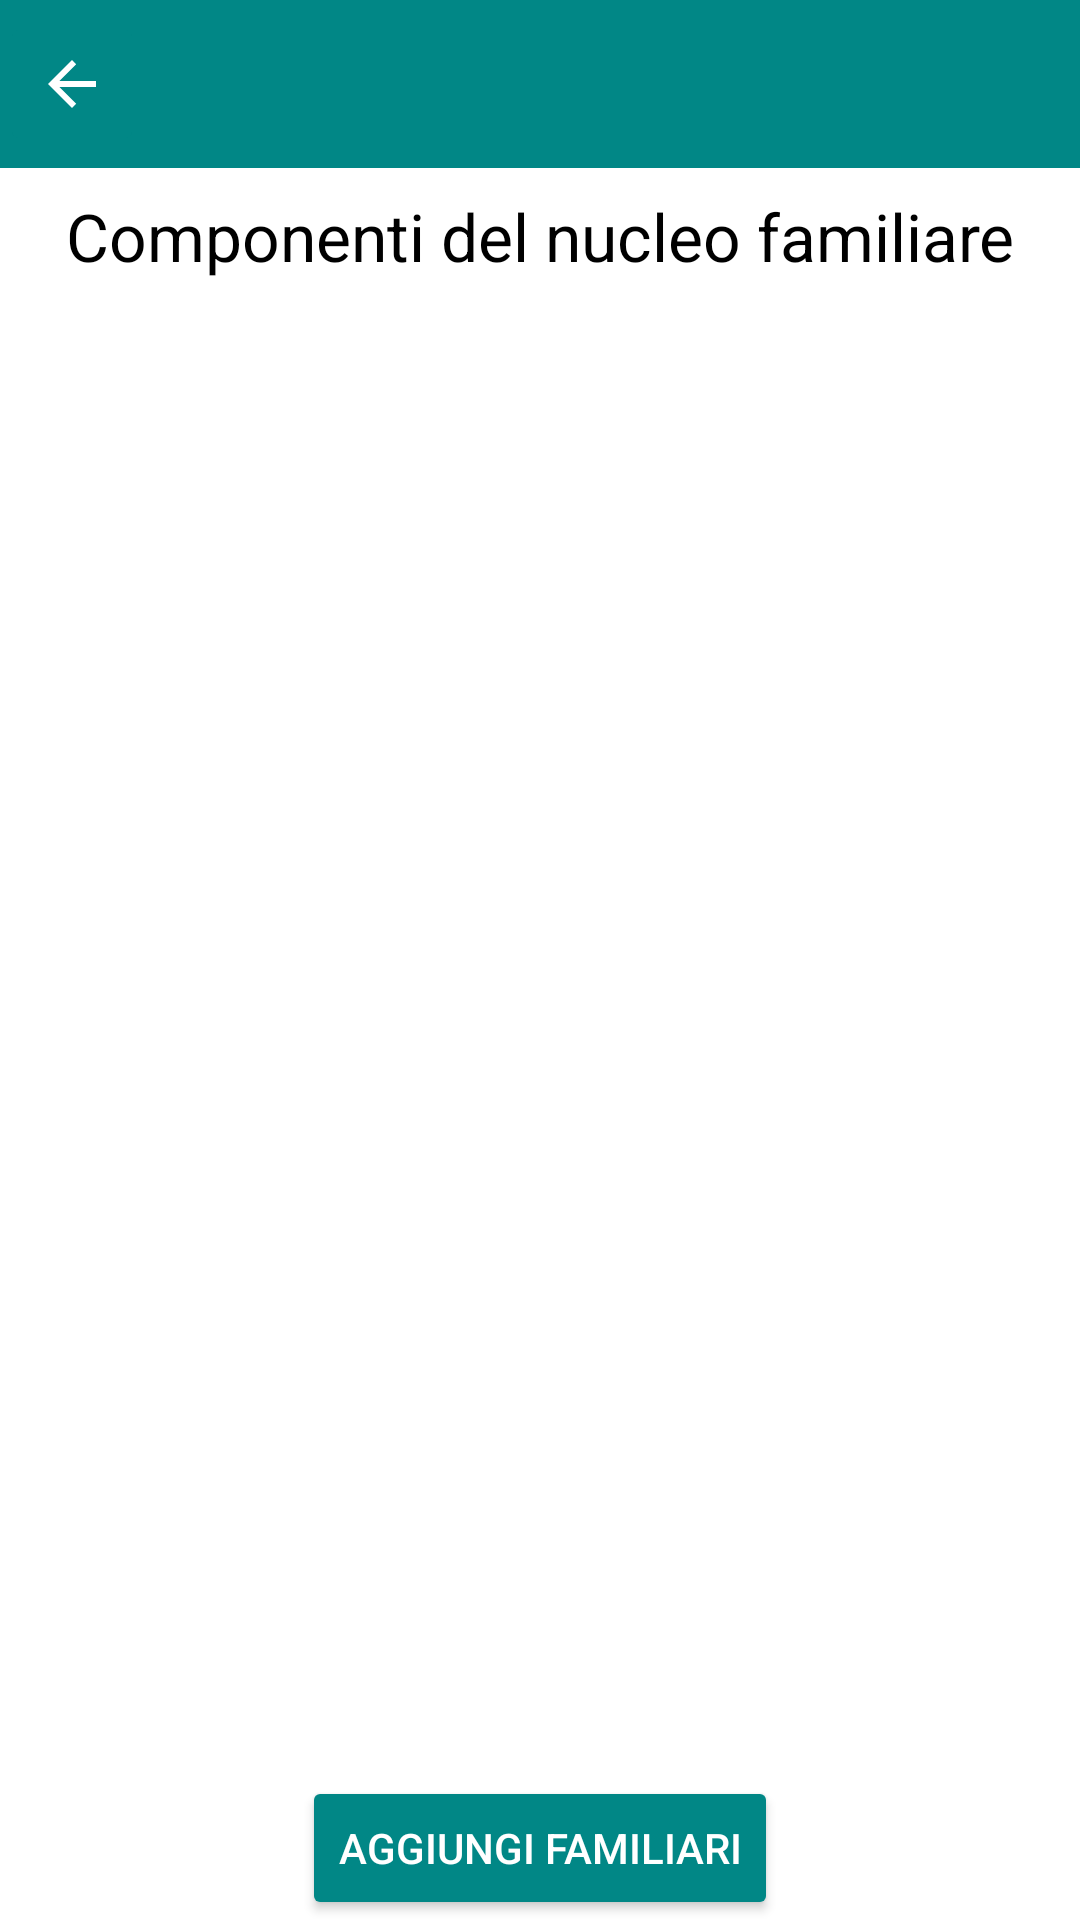

Where to tap for icons on this 1080px×1920px app screen, as (x=x, y=y):
Back: (x=72, y=84)
